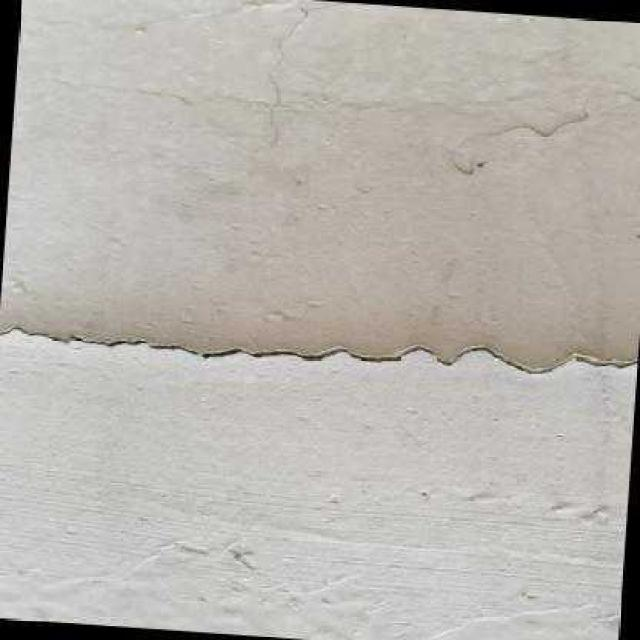D00: (0, 326, 638, 372)
